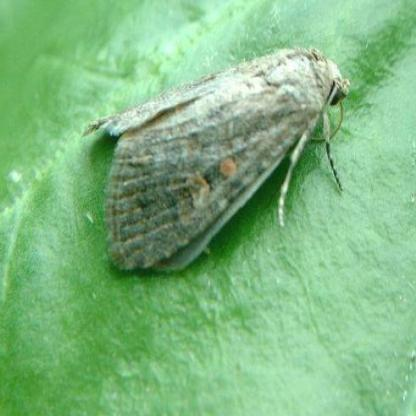armyworm: (90, 41, 362, 268)
